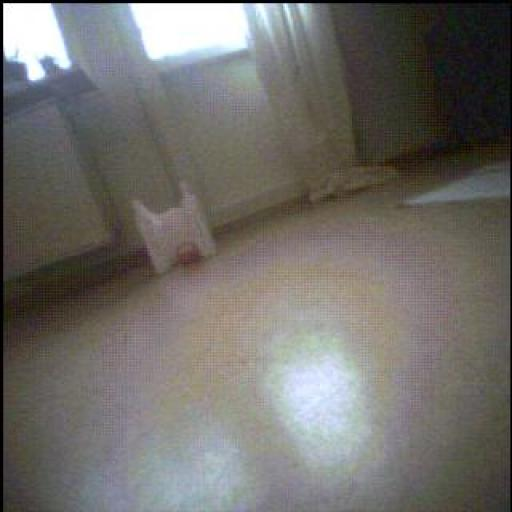Basket: (179, 244, 203, 265)
